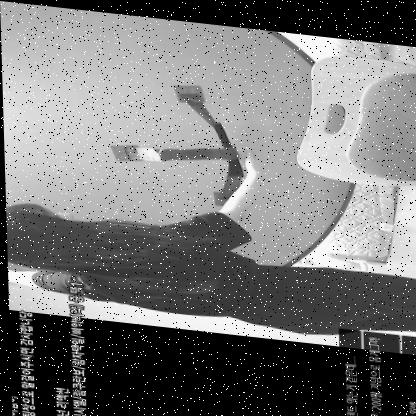streamer: (3, 120, 416, 338)
